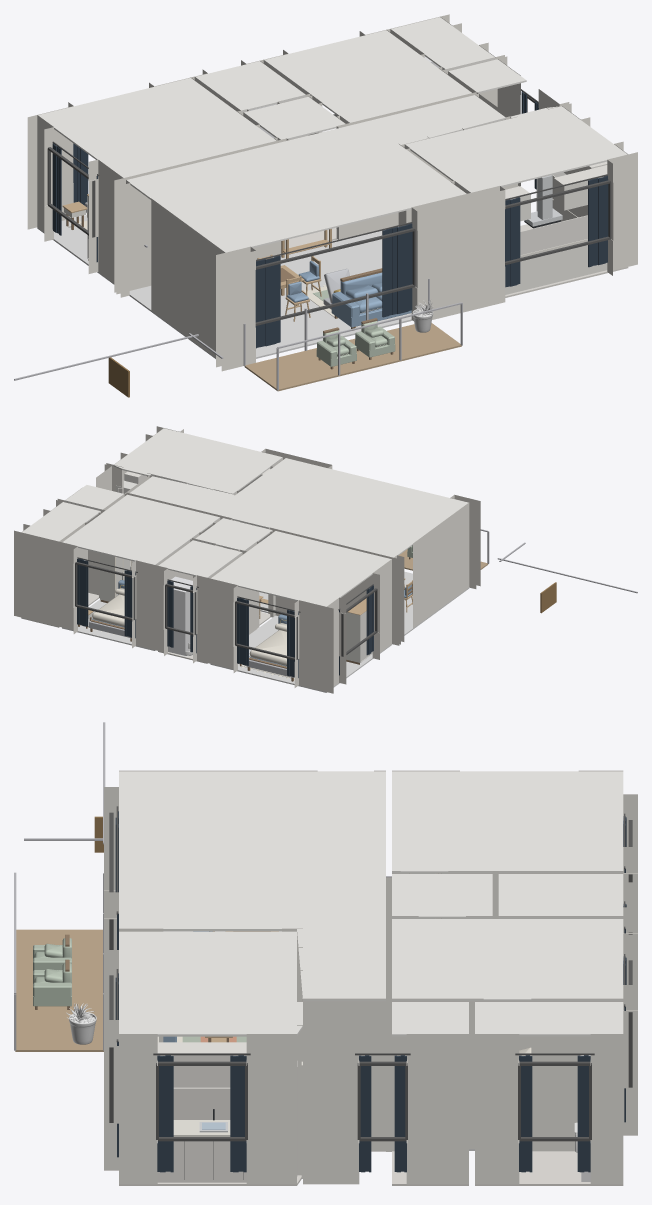
Rendered from 2bhk-modern.glb.
3 views of the same model, one above another, from view 1: azimuth 30°, elevation 25°; view 2: azimuth 150°, elevation 25°; view 3: azimuth 270°, elevation 25° (orthographic). The views are drawn at different scales.
Parts seen in each view (by area): view 1: ceil-living, ceil-bedroom1, ceil-kitchen, ceil-bedroom2, wall-balcony-wall-12, wall-living-wall-0, floor-living, floor-balcony, wall-balcony-wall-4, wall-kitchen-wall-29, ceil-bathroom, ceil-ensuite (+28 smaller); view 2: ceil-living, ceil-bedroom1, ceil-kitchen, ceil-bedroom2, wall-bedroom2-wall-23, wall-living-wall-0, wall-bedroom1-wall-7, wall-bedroom1-wall-5, wall-bathroom-wall-14, ceil-bathroom, wall-living-wall-2, ceil-ensuite (+18 smaller); view 3: ceil-living, ceil-bedroom1, ceil-bedroom2, ceil-kitchen, wall-utility-wall-34, wall-kitchen-wall-33, wall-kitchen-wall-32, floor-balcony, wall-utility-wall-35, wall-kitchen-wall-31, ceil-bathroom, wall-ensuite-wall-27 (+22 smaller).
Boxes of the visible parts, x1,y1,x2,y2 form: ceil-living: (127,95,505,252); ceil-bedroom1: (38,78,276,177); ceil-kitchen: (404,106,627,193); ceil-bedroom2: (263,30,471,123); wall-balcony-wall-12: (417,190,505,319); wall-living-wall-0: (151,198,224,357); floor-living: (129,226,412,358); floor-balcony: (244,323,461,391); wall-balcony-wall-4: (221,251,255,371); wall-kitchen-wall-29: (607,152,637,275); ceil-bathroom: (194,61,306,112); ceil-ensuite: (391,17,495,70); ceil-living: (130,458,468,557); ceil-bedroom1: (211,531,391,606); ceil-kitchen: (113,428,282,493); ceil-bedroom2: (62,494,220,565); wall-bedroom2-wall-23: (14,530,77,633); wall-living-wall-0: (413,502,469,627); wall-bedroom1-wall-7: (193,575,237,672); wall-bedroom1-wall-5: (294,600,333,693); wall-bathroom-wall-14: (132,560,167,655); ceil-bathroom: (158,540,242,577); wall-living-wall-2: (373,559,399,652); ceil-ensuite: (22,502,100,541); ceil-living: (119,771,385,1001); ceil-bedroom1: (392,771,623,873); ceil-bedroom2: (392,919,623,1001); ceil-kitchen: (119,931,302,1036); wall-utility-wall-34: (406,1034,468,1184); wall-kitchen-wall-33: (303,1034,359,1184); wall-kitchen-wall-32: (246,1034,296,1184); floor-balcony: (15,929,103,1051); wall-utility-wall-35: (475,1034,519,1184); wall-kitchen-wall-31: (119,1034,157,1184); ceil-bathroom: (498,874,623,918); wall-ensuite-wall-27: (531,1001,623,1151).
Bounding box in the file's own units: 16.4 × 2.85 × 10.52.
